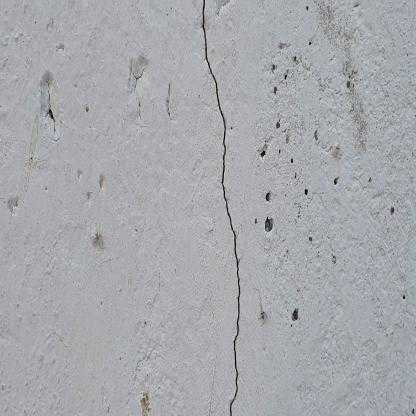crack: (202, 0, 240, 415)
